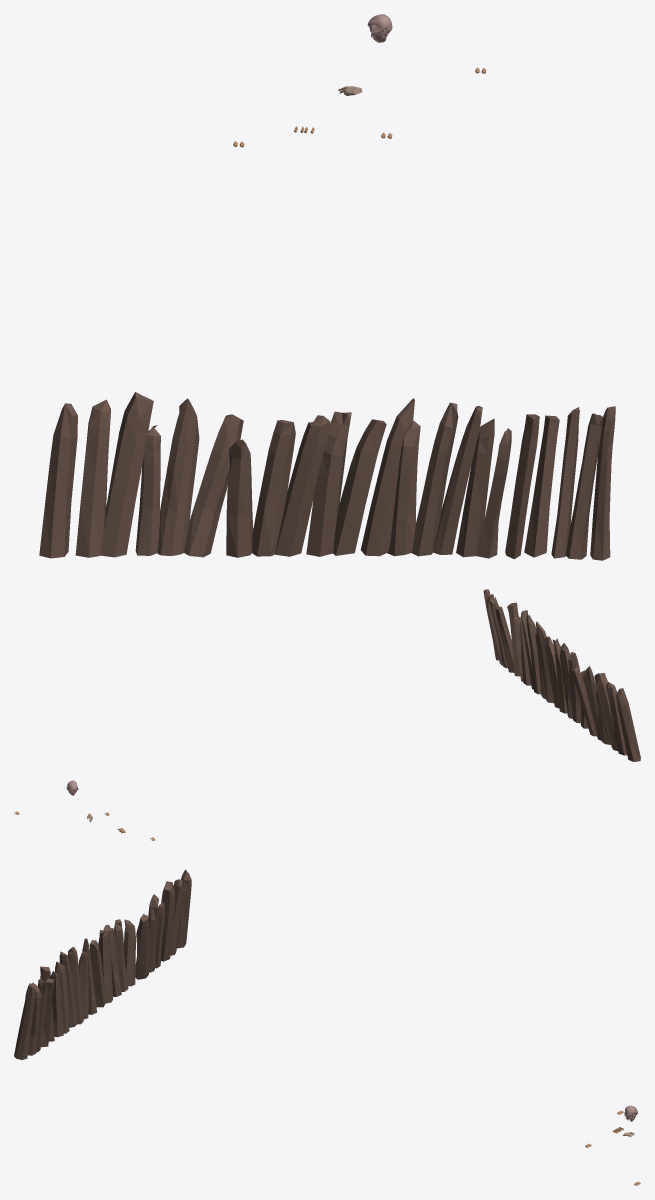
3 renders of one model, top to bottom at view 1: azimuth 30°, elevation 25°; view 2: azimuth 150°, elevation 25°; view 3: azimuth 270°, elevation 25°, orthographic. The views are drawn at different scales.
Size of the model in its own units: 15.88 by 2.94 by 17.88.
